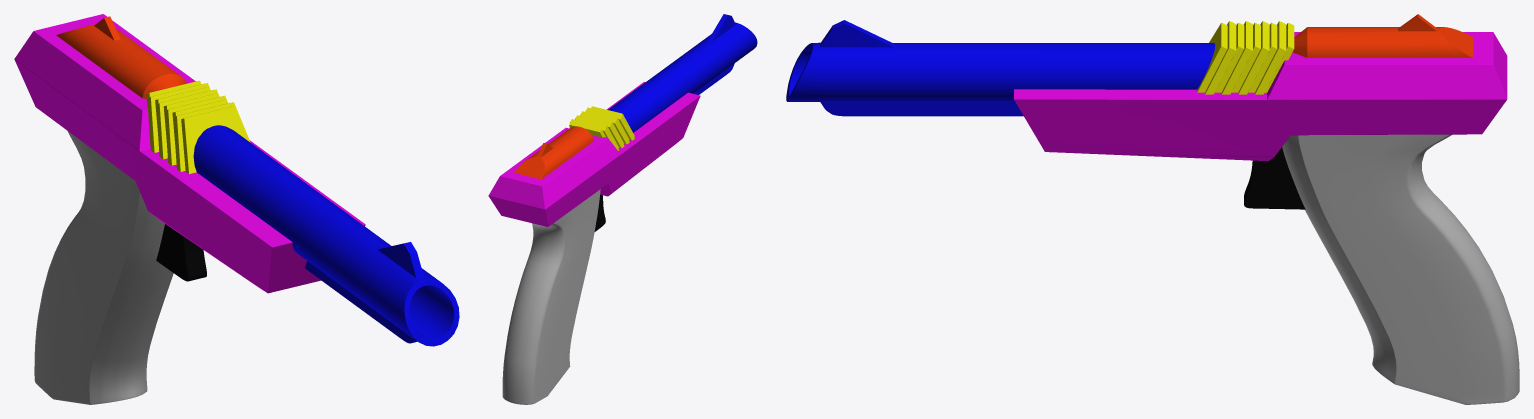
File: Lightgun.fbx
3 views of the same model, side by side, from view 1: azimuth 30°, elevation 25°; view 2: azimuth 150°, elevation 25°; view 3: azimuth 270°, elevation 25° (orthographic). The views are drawn at different scales.
Parts seen in each view (by area): view 1: Gun_High1; view 2: Gun_High1; view 3: Gun_High1.
Part boxes in pixels (left/top/right/bottom): Gun_High1: left=14, top=14, right=459, bottom=404; Gun_High1: left=488, top=14, right=757, bottom=404; Gun_High1: left=786, top=14, right=1519, bottom=404.
Size of the model in its own units: 0.1443 by 0.5767 by 1.02.
